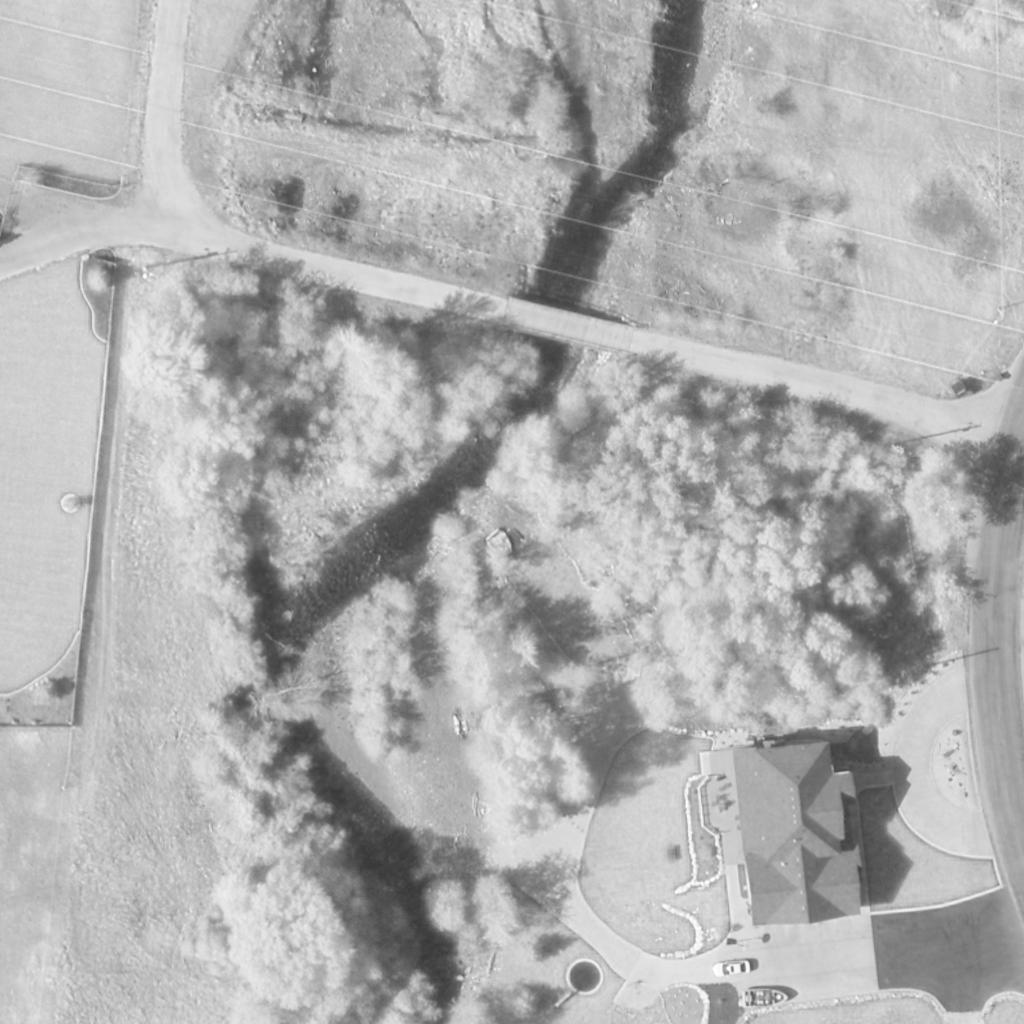vehicle: (741, 986, 793, 1010), (711, 960, 755, 978)
